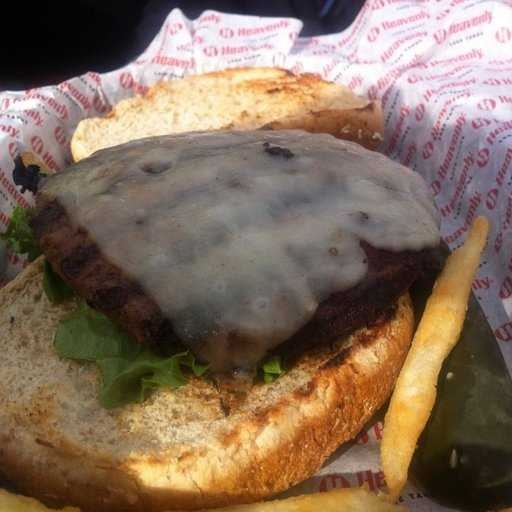hamburger: (1, 54, 448, 491)
